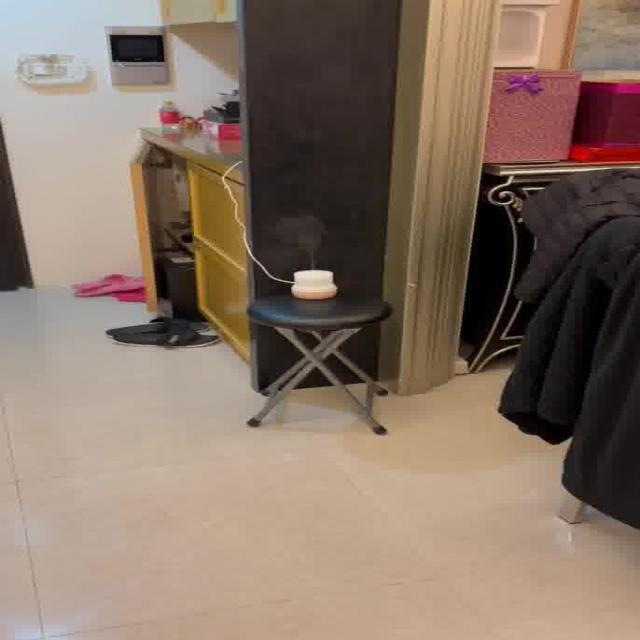fire: (274, 211, 331, 264)
